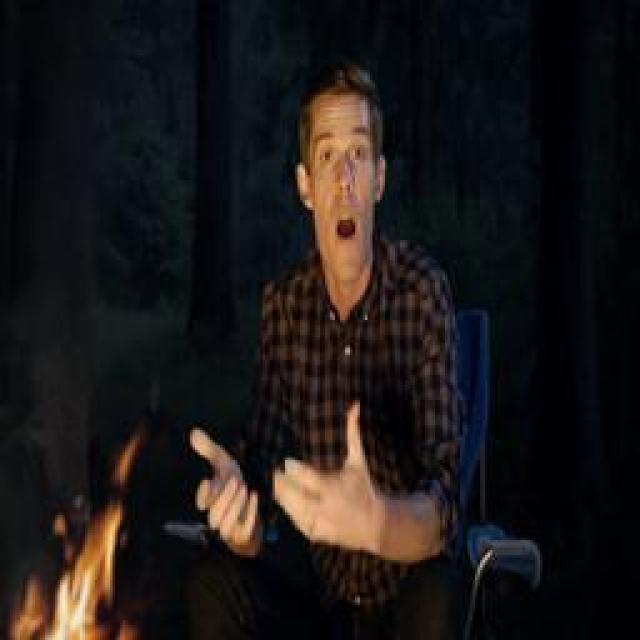Fire: (12, 432, 140, 640)
